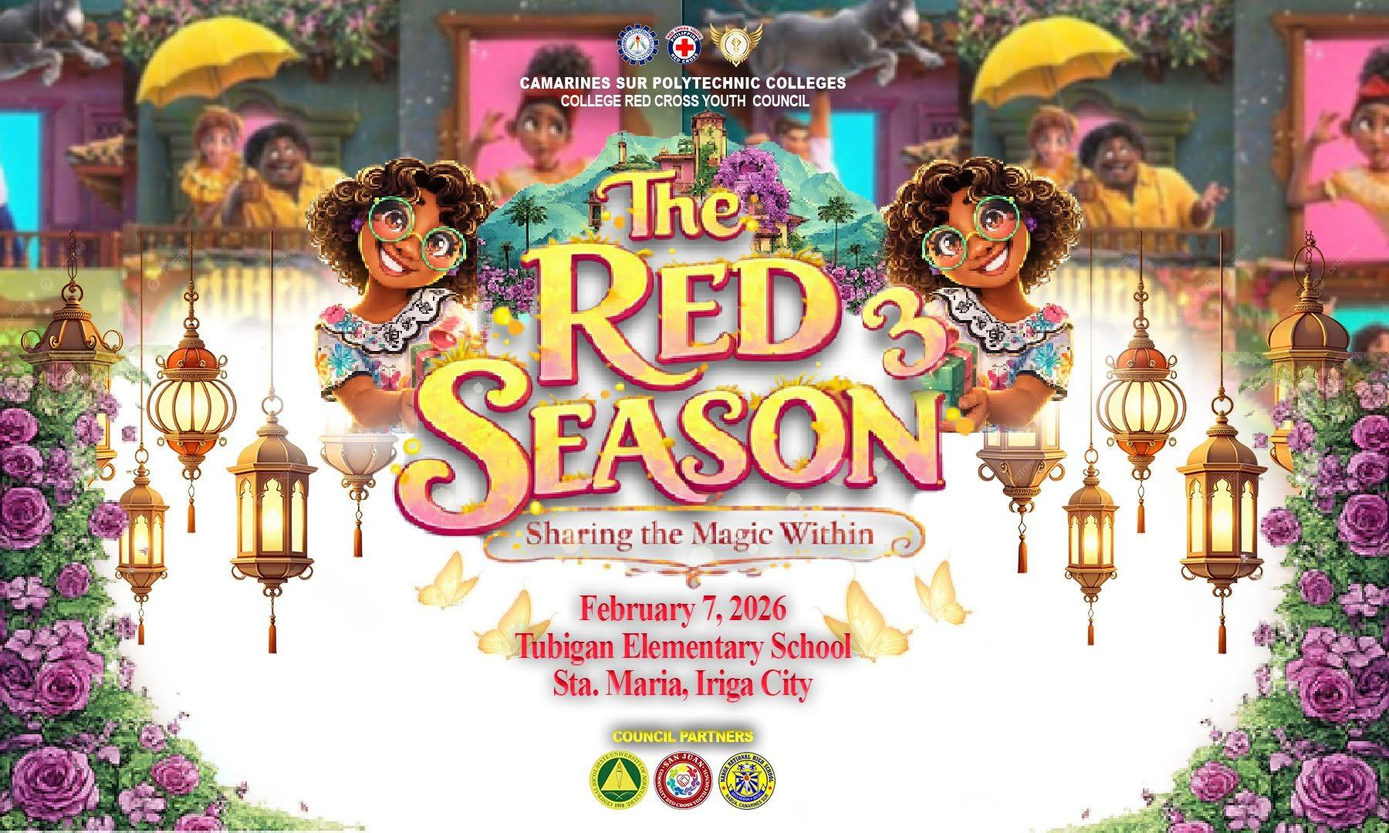embellishment: (304, 110, 1085, 443)
logo: (587, 751, 649, 809), (718, 750, 778, 809), (653, 751, 712, 809), (705, 22, 762, 69), (617, 22, 660, 69), (664, 22, 705, 66)
text: (391, 162, 957, 542), (523, 514, 882, 550), (514, 632, 851, 666), (552, 668, 814, 702), (580, 593, 788, 627), (521, 75, 846, 90), (561, 93, 806, 107), (610, 729, 754, 744)
underlay: (479, 497, 930, 591)
